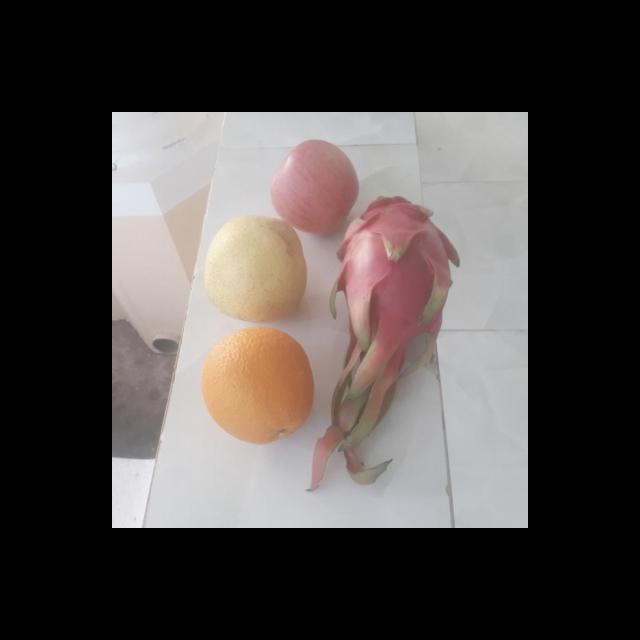apple: (271, 140, 364, 233)
orange: (198, 328, 318, 442)
pear: (198, 216, 312, 322)
pitaya: (334, 194, 465, 348)
